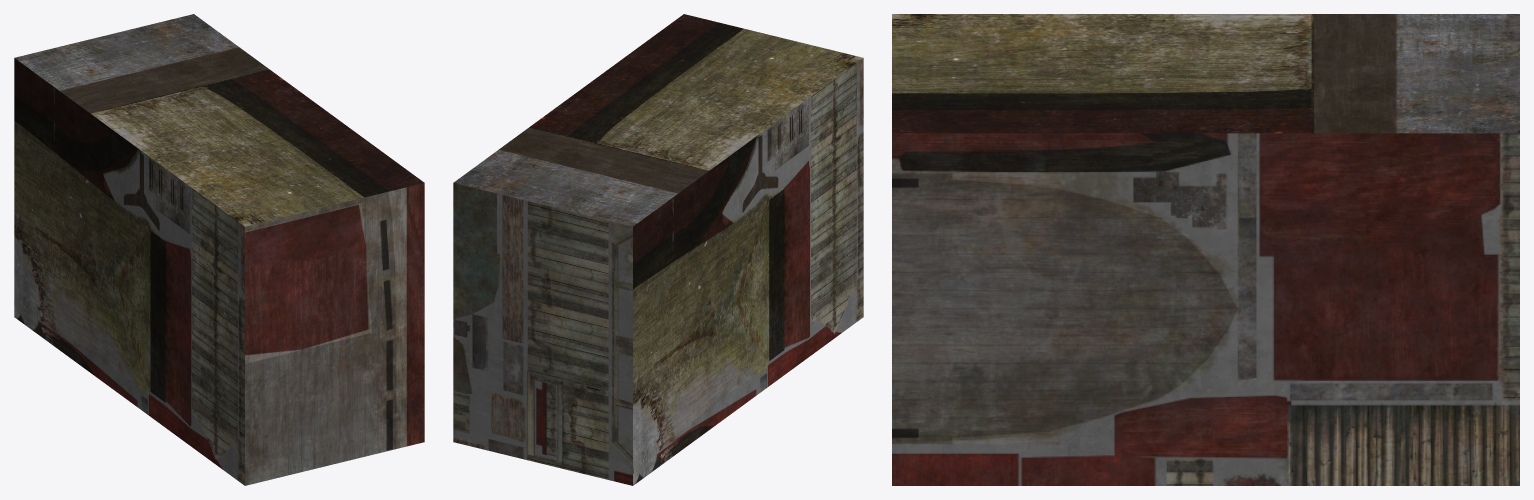
The model's file is beached_boat_bk_a.DAE.
The picture shows the model from 3 angles, left to right: view 1: azimuth 30°, elevation 25°; view 2: azimuth 150°, elevation 25°; view 3: azimuth 270°, elevation 25°; orthographic projection. The views are drawn at different scales.
Visible parts, largest first — view 1: bounds; view 2: bounds; view 3: bounds.
Part boxes in pixels (x1=…): bounds: x1=14, y1=14, x2=424, y2=485; bounds: x1=453, y1=14, x2=863, y2=485; bounds: x1=892, y1=14, x2=1519, y2=485.
Size of the model in its own units: 663 by 1475 by 915.
